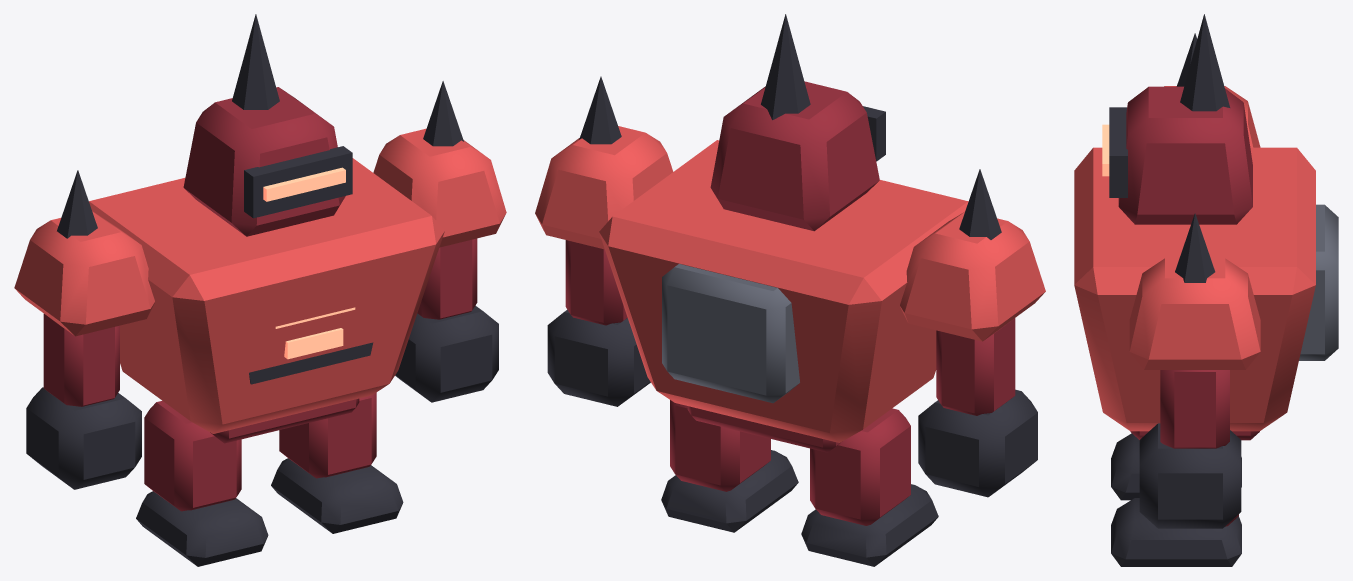
File: red_brute.glb
3 renders of one model, left to right at view 1: azimuth 30°, elevation 25°; view 2: azimuth 150°, elevation 25°; view 3: azimuth 270°, elevation 25°, orthographic. The views are drawn at different scales.
Visible parts, largest first — view 1: torso, armL, armR, head, legL, legR; view 2: torso, armL, armR, head, legL, legR; view 3: torso, armR, head, legR, legL, armL.
Part boxes in pixels (box(x1,y1,x2,y2)): torso: box(89, 158, 444, 443); armL: box(14, 170, 154, 489); armR: box(373, 81, 506, 402); head: box(183, 14, 352, 236); legL: box(136, 400, 268, 566); legR: box(271, 392, 403, 533); torso: box(599, 140, 968, 452); armL: box(900, 169, 1045, 497); armR: box(535, 76, 673, 406); head: box(710, 14, 885, 231); legL: box(801, 408, 938, 566); legR: box(661, 400, 798, 532); torso: box(1074, 147, 1338, 440); armR: box(1129, 213, 1260, 528); head: box(1102, 14, 1252, 224); legR: box(1111, 498, 1241, 566); legL: box(1111, 433, 1241, 500); armL: box(1164, 33, 1260, 147).
Size of the model in its own units: 1.12 by 1.2 by 0.5709.
